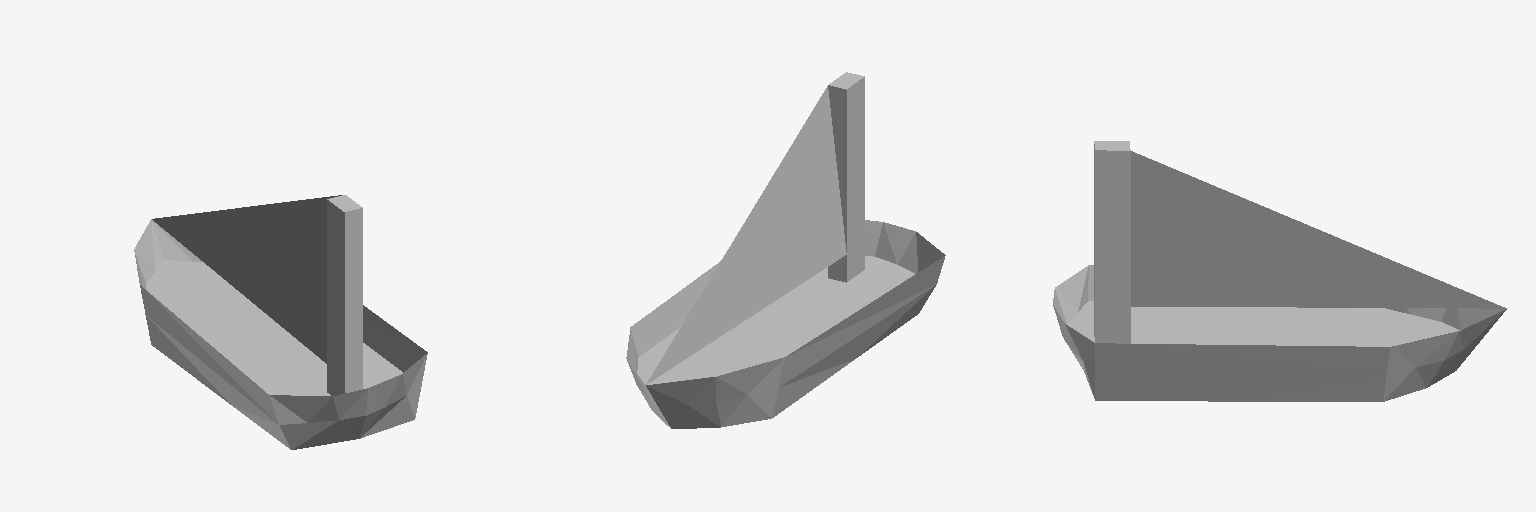
File: mediumboat.obj
The picture shows the model from 3 angles: view 1: azimuth 30°, elevation 25°; view 2: azimuth 150°, elevation 25°; view 3: azimuth 270°, elevation 25°; orthographic projection.
Visible parts, largest first — view 1: Cube.001_Cube.002; view 2: Cube.001_Cube.002; view 3: Cube.001_Cube.002.
Part boxes in pixels (left/top/right/bottom): Cube.001_Cube.002: left=134, top=195, right=427, bottom=449; Cube.001_Cube.002: left=626, top=72, right=945, bottom=428; Cube.001_Cube.002: left=1053, top=141, right=1506, bottom=401.
Bounding box in the file's own units: 0.6964 × 0.9107 × 1.67.